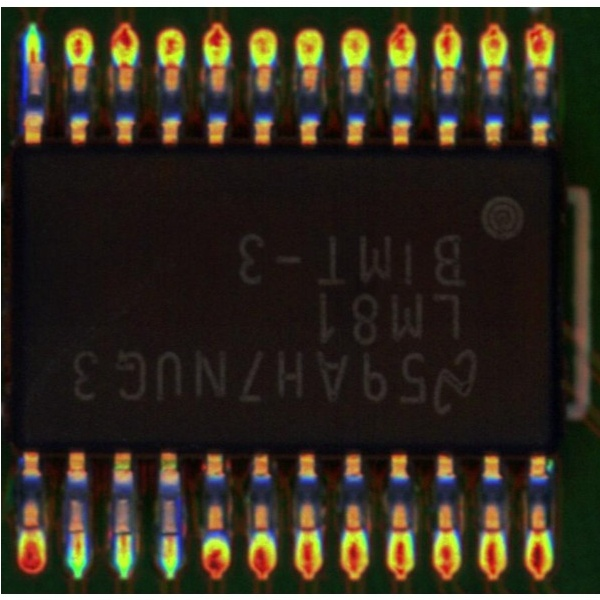Bad_podu: (69, 520, 82, 555), (161, 522, 175, 549), (115, 522, 127, 551), (26, 46, 38, 74), (22, 516, 37, 538)
